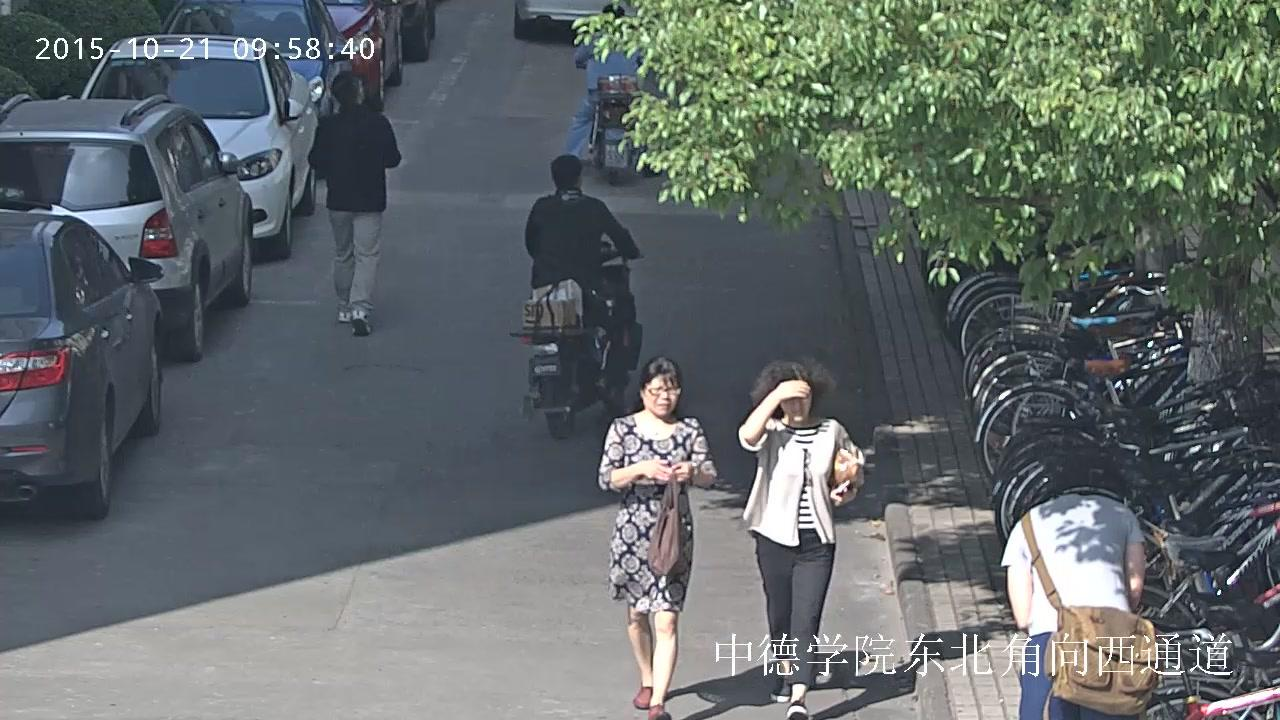face: (643, 374, 678, 417), (783, 391, 811, 421)
